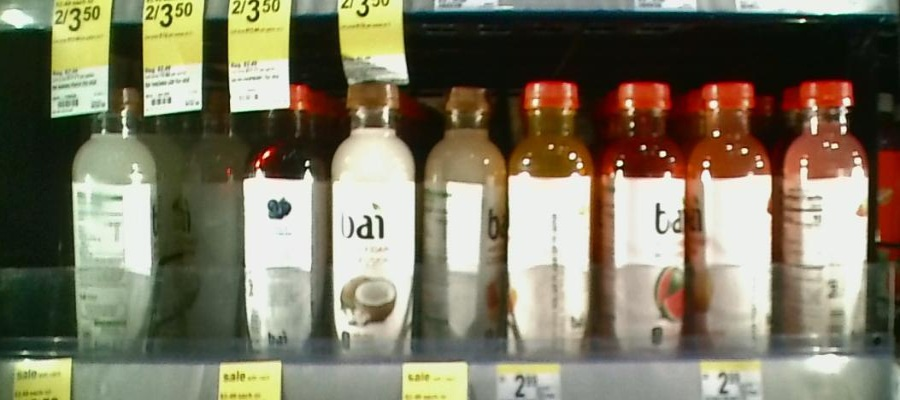bottle: (65, 83, 164, 358), (687, 80, 777, 374), (506, 69, 596, 362), (599, 73, 685, 373), (326, 76, 418, 348), (782, 80, 868, 366), (421, 79, 503, 357), (245, 81, 326, 354), (180, 91, 244, 347)
